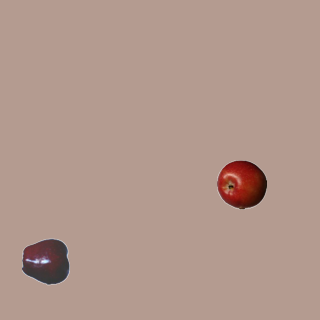Apple Braeburn: (216, 159, 266, 209)
Apple Red Delicious: (21, 236, 71, 286)
